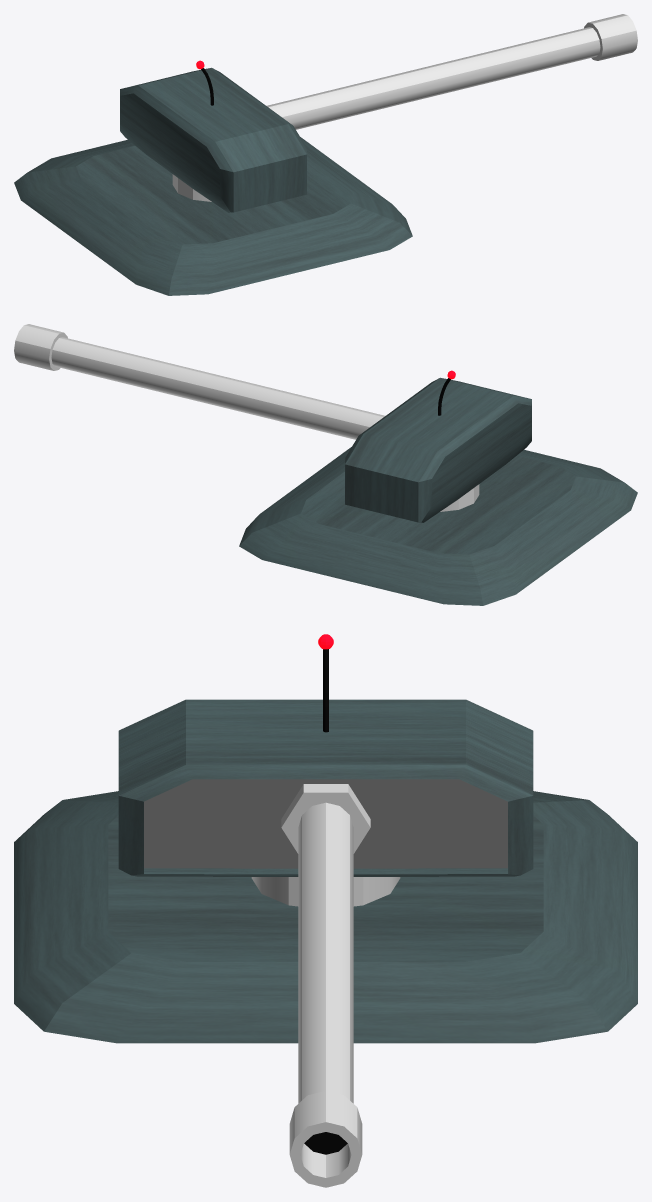
Rendered from turret_gustav.glb.
The picture shows the model from 3 angles, top to bottom: view 1: azimuth 30°, elevation 25°; view 2: azimuth 150°, elevation 25°; view 3: azimuth 270°, elevation 25°; orthographic projection. The views are drawn at different scales.
Visible parts, largest first — view 1: Base, Head, Cannon; view 2: Base, Head, Cannon; view 3: Base, Head, Cannon.
Part boxes in pixels (left/top/right/bottom): Base: left=14, top=137, right=412, bottom=295; Head: left=120, top=67, right=306, bottom=212; Cannon: left=267, top=14, right=637, bottom=129; Base: left=239, top=447, right=637, bottom=605; Head: left=345, top=377, right=531, bottom=522; Cannon: left=14, top=324, right=384, bottom=439; Base: left=14, top=791, right=637, bottom=1043; Head: left=118, top=699, right=533, bottom=876; Cannon: left=281, top=784, right=370, bottom=1187.
Bounding box in the file's own units: 12.68 × 3.5 × 6.84.
Materials: 5 (1 with a texture image).
